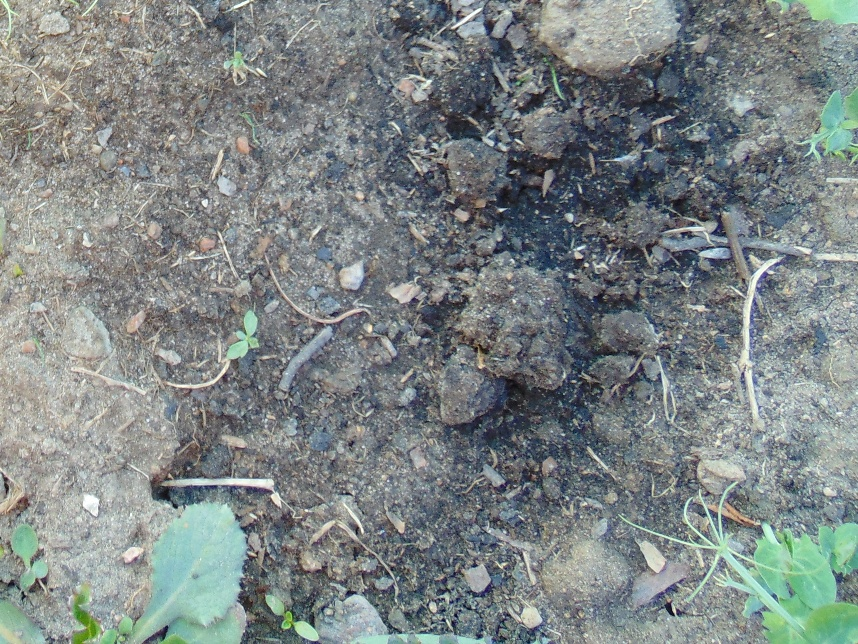crop: (661, 485, 857, 644), (798, 89, 858, 167), (768, 1, 858, 34)
weed: (71, 500, 251, 644), (265, 592, 322, 641), (1, 594, 58, 642), (13, 526, 49, 596), (224, 308, 258, 368)
